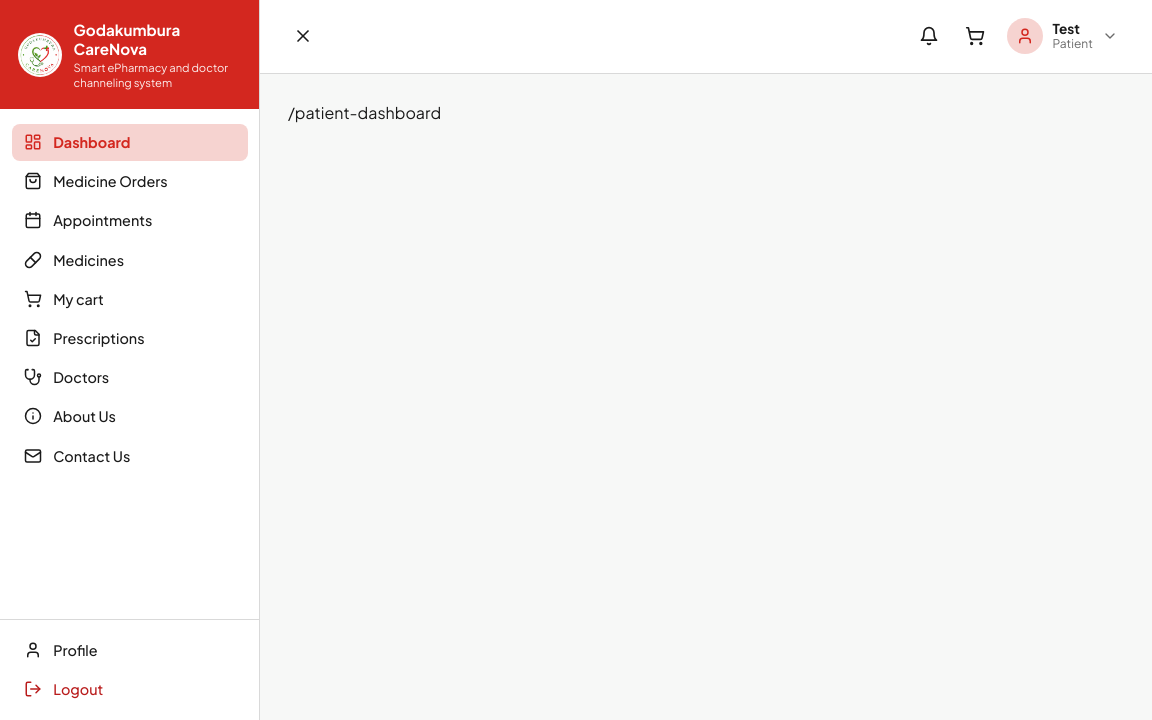
DashboardLayout › opens patient appointments from the sidebar
Click the link "Appointments" at coordinates (88, 220), box 24,212 -> 152,230
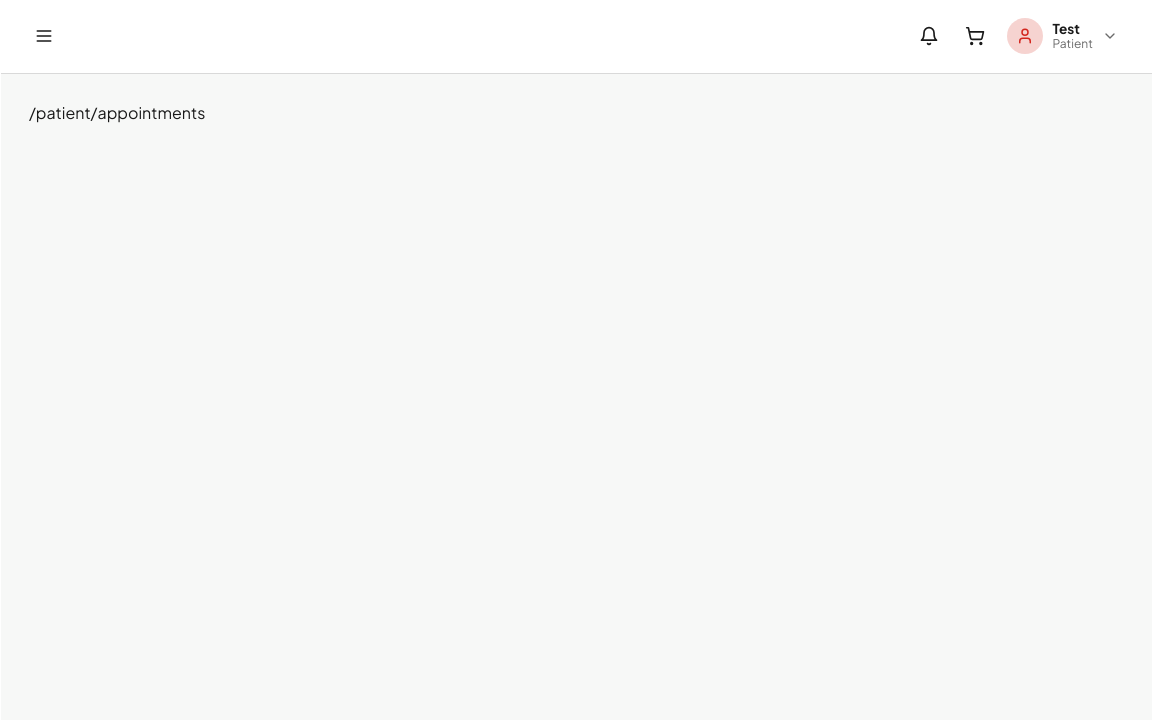
Check: the text "/patient/appointments" is shown, box 29,102 -> 205,123
